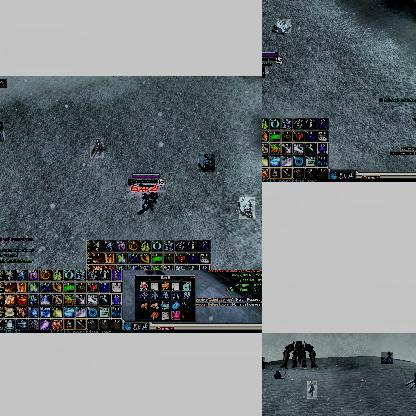caliana: (239, 197, 255, 219), (199, 154, 215, 172), (90, 138, 104, 158), (403, 373, 416, 389), (277, 19, 291, 33), (307, 381, 317, 399), (381, 352, 393, 364), (0, 121, 3, 142), (262, 357, 265, 368)
